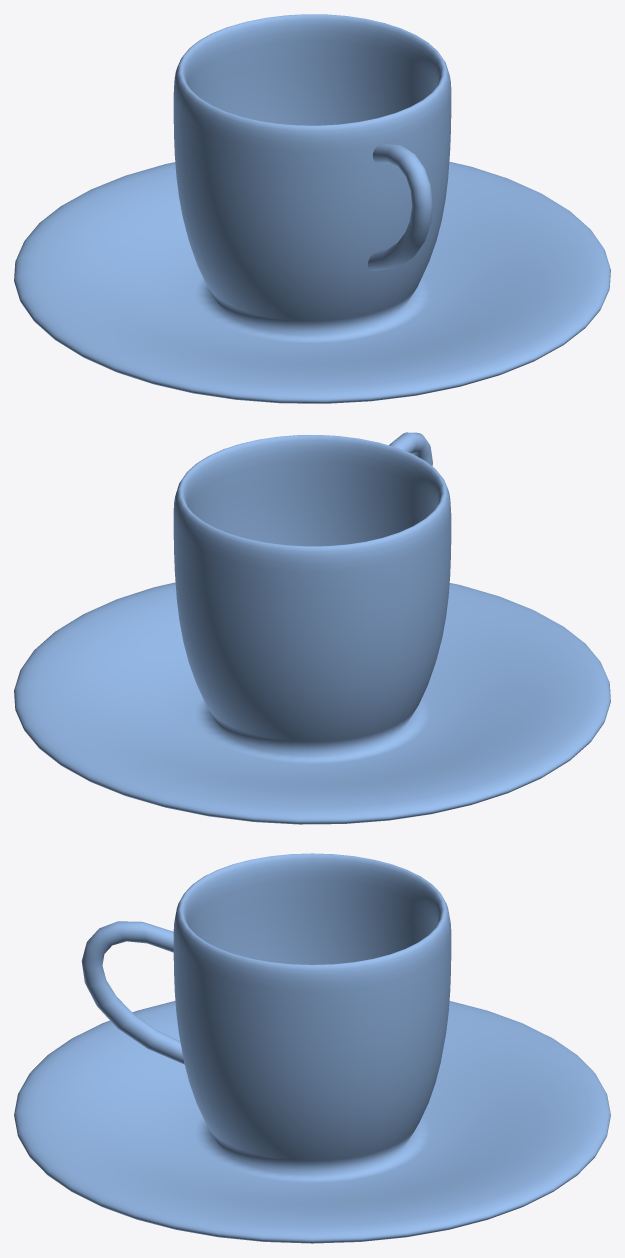
The model's file is teacup.glb.
The picture shows the model from 3 angles, top to bottom: view 1: azimuth 30°, elevation 25°; view 2: azimuth 150°, elevation 25°; view 3: azimuth 270°, elevation 25°; orthographic projection.
Visible parts, largest first — view 1: teacup; view 2: teacup; view 3: teacup.
Boxes of the visible parts, x1,y1,x2,y2 form: teacup: (14, 14, 610, 403); teacup: (14, 432, 610, 824); teacup: (14, 853, 610, 1243).
Bounding box in the file's own units: 0.6205 × 0.2724 × 0.6205.
